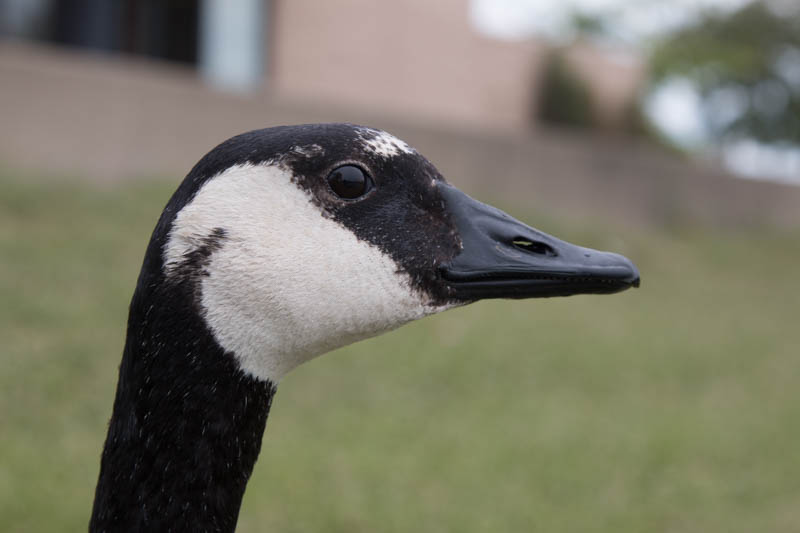goose-head: (131, 124, 640, 388)
